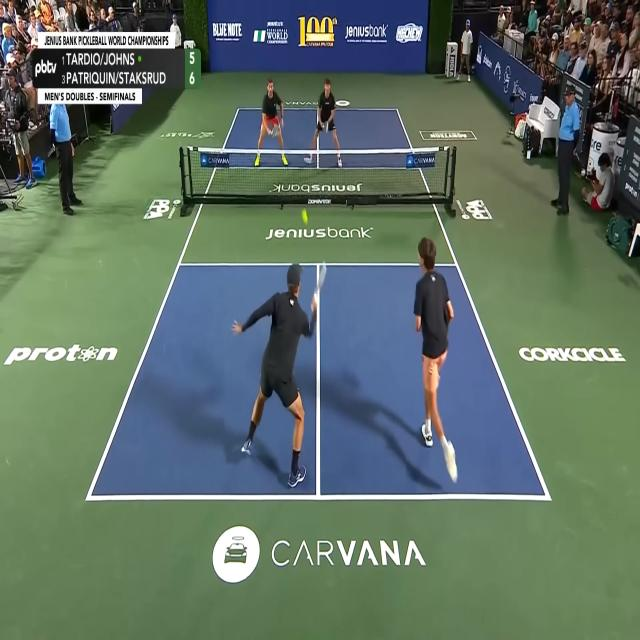ball: (302, 208, 308, 226)
